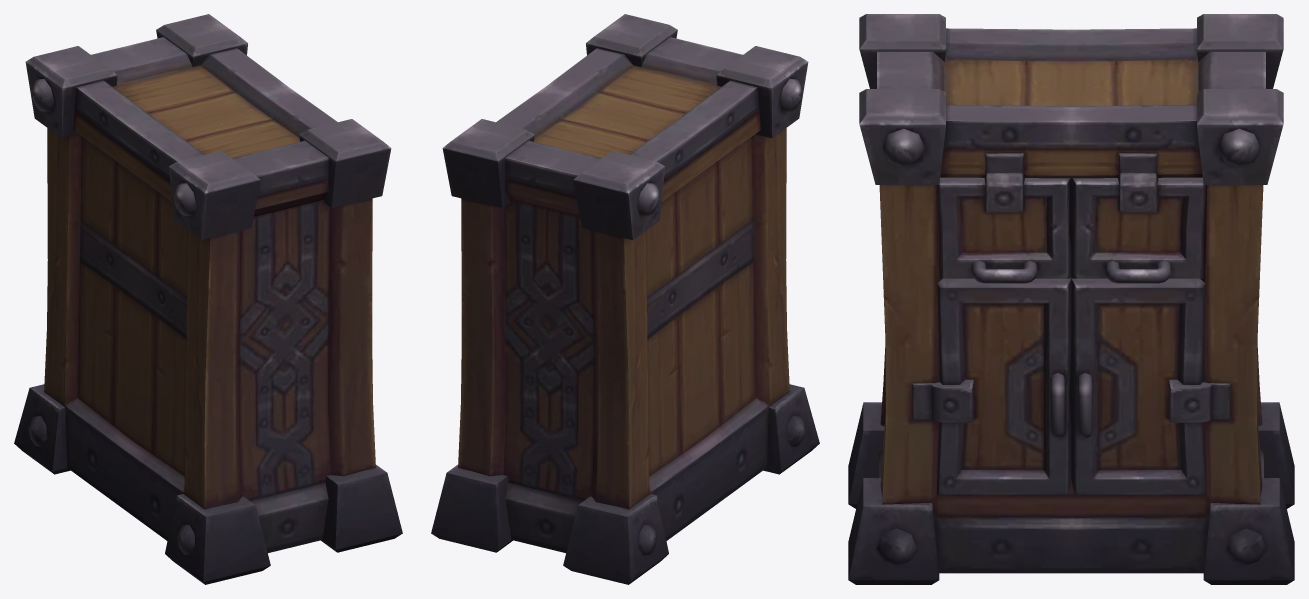
The picture shows the model from 3 angles, left to right: view 1: azimuth 30°, elevation 25°; view 2: azimuth 150°, elevation 25°; view 3: azimuth 270°, elevation 25°; orthographic projection. The views are drawn at different scales.
Bounding box in the file's own units: 1.93 × 3.48 × 3.02.
1 material, 1 textured.
